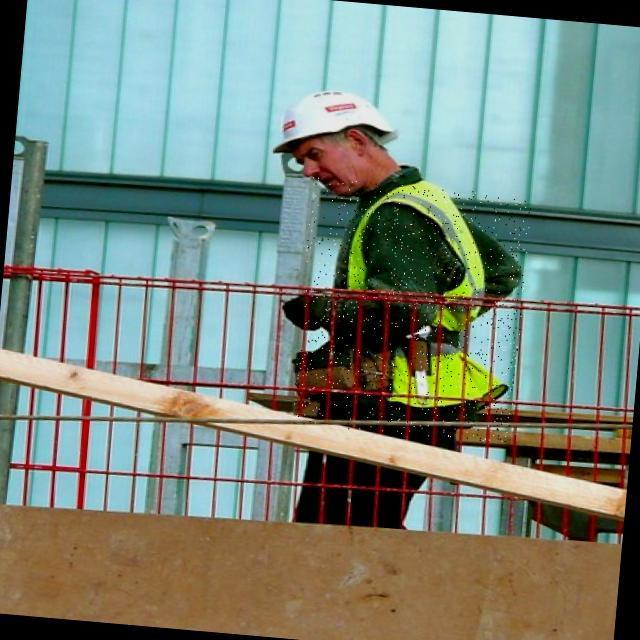helmet: (253, 77, 413, 161)
vest: (291, 177, 531, 443)
